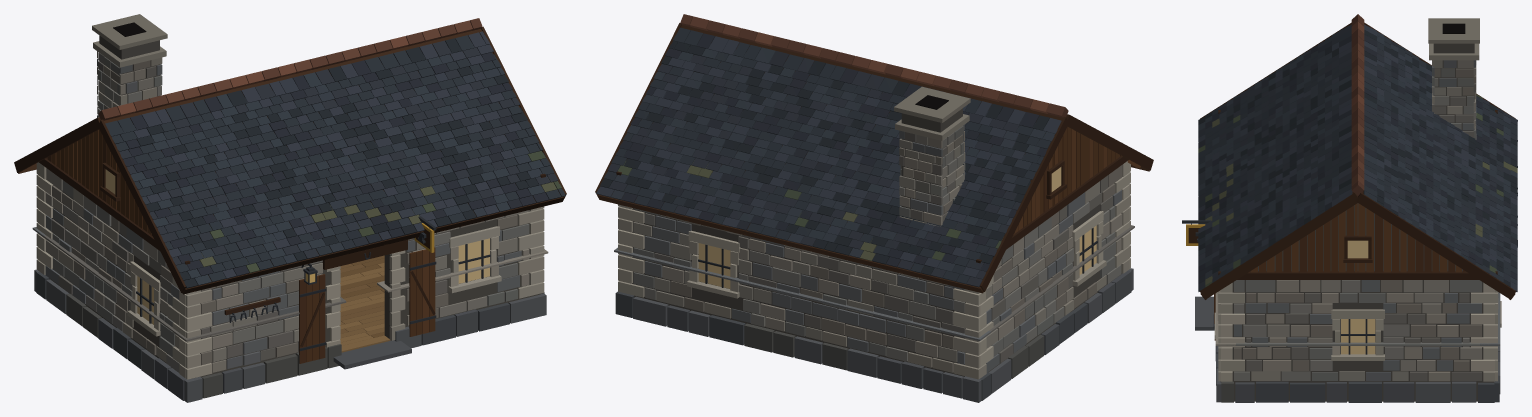
The model's file is smith.glb.
3 views of the same model, side by side, from view 1: azimuth 30°, elevation 25°; view 2: azimuth 150°, elevation 25°; view 3: azimuth 270°, elevation 25° (orthographic). The views are drawn at different scales.
Visible parts, largest first — view 1: smith_shell, smith_interior, smith_cap, smith_glass; view 2: smith_shell, smith_cap, smith_glass; view 3: smith_shell, smith_glass, smith_cap.
Boxes of the visible parts, x1=… form: smith_shell: x1=14, y1=14, x2=566, y2=402; smith_interior: x1=339, y1=255, x2=390, y2=352; smith_cap: x1=32, y1=227, x2=548, y2=341; smith_glass: x1=105, y1=169, x2=489, y2=324; smith_shell: x1=595, y1=14, x2=1153, y2=402; smith_cap: x1=614, y1=225, x2=1134, y2=340; smith_glass: x1=698, y1=167, x2=1096, y2=288; smith_shell: x1=1182, y1=14, x2=1517, y2=402; smith_glass: x1=1341, y1=240, x2=1375, y2=354; smith_cap: x1=1215, y1=292, x2=1500, y2=345.
Bounding box in the file's own units: 11.94 × 7.84 × 9.78.
